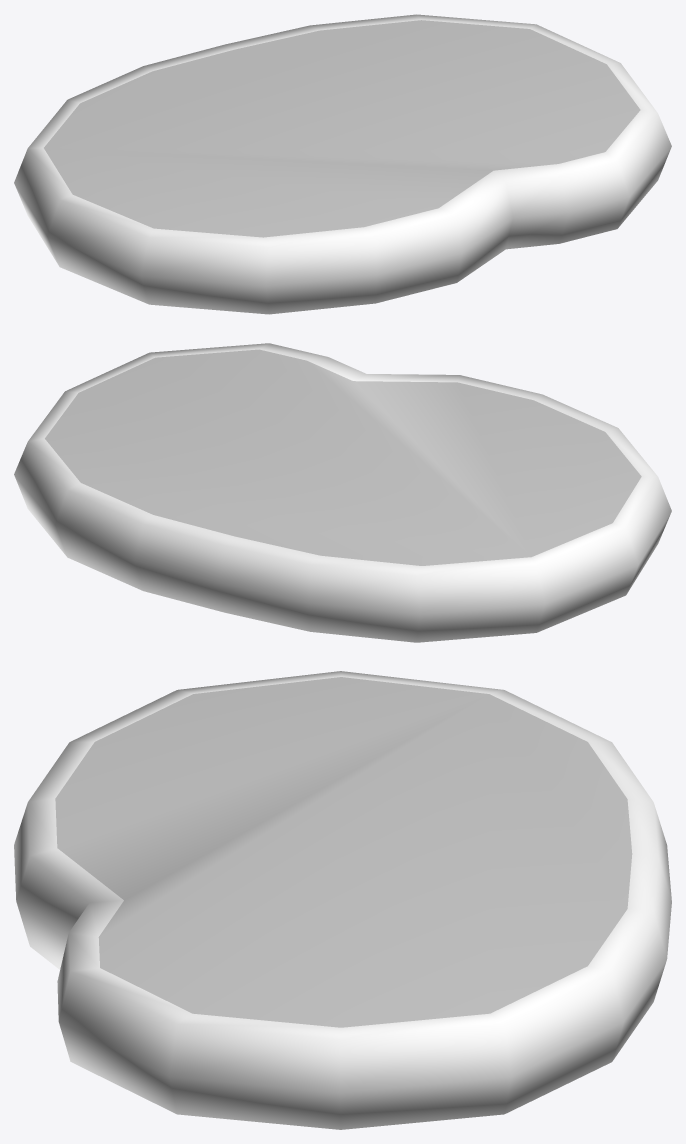
Rendered from RawBeaf.fbx.
3 renders of one model, top to bottom at view 1: azimuth 30°, elevation 25°; view 2: azimuth 150°, elevation 25°; view 3: azimuth 270°, elevation 25°, orthographic. The views are drawn at different scales.
Parts seen in each view (by area): view 1: Beef; view 2: Beef; view 3: Beef.
Part boxes in pixels (x1,y1,x2,y2): Beef: (14, 14, 671, 314); Beef: (14, 343, 671, 642); Beef: (14, 671, 671, 1129).
Bounding box in the file's own units: 121 × 14.04 × 87.35.
